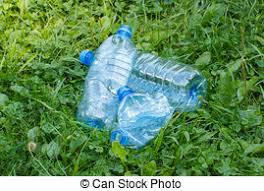Plastic: (76, 23, 139, 140)
